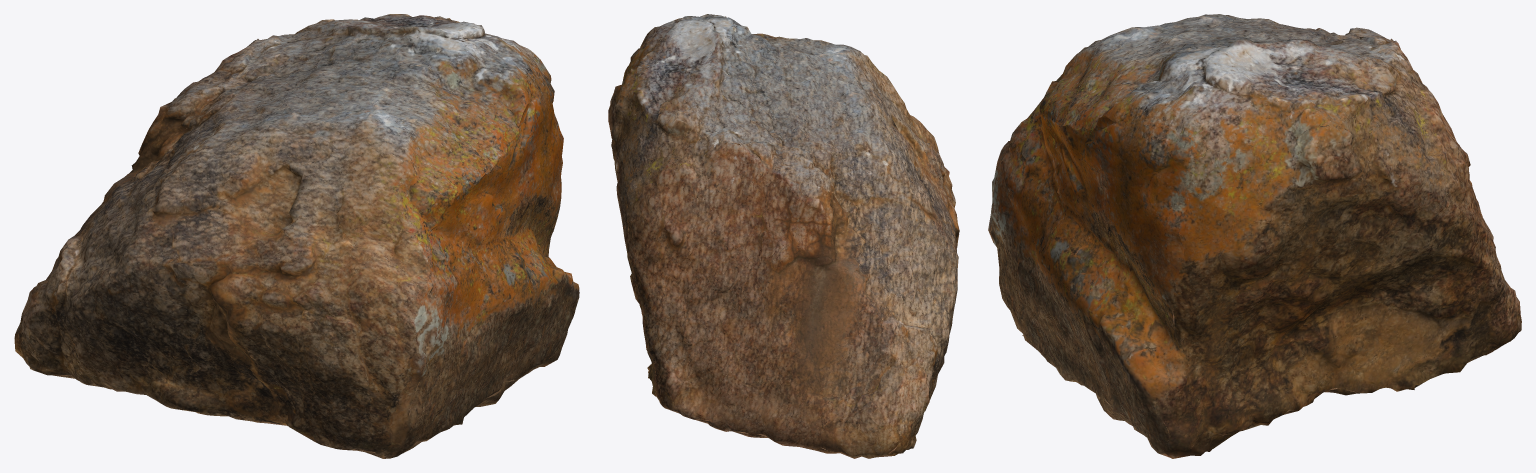
The model's file is namaqualand_boulder_04.fbx.
3 views of the same model, side by side, from view 1: azimuth 30°, elevation 25°; view 2: azimuth 150°, elevation 25°; view 3: azimuth 270°, elevation 25° (orthographic). The views are drawn at different scales.
Visible parts, largest first — view 1: namaqualand_boulder_04; view 2: namaqualand_boulder_04; view 3: namaqualand_boulder_04.
Part boxes in pixels (x1=…): namaqualand_boulder_04: x1=14, y1=14, x2=579, y2=458; namaqualand_boulder_04: x1=608, y1=14, x2=959, y2=458; namaqualand_boulder_04: x1=988, y1=14, x2=1521, y2=458.
Bounding box in the file's own units: 2.53 × 1.9 × 2.5.
Materials: 1 (1 with a texture image).
